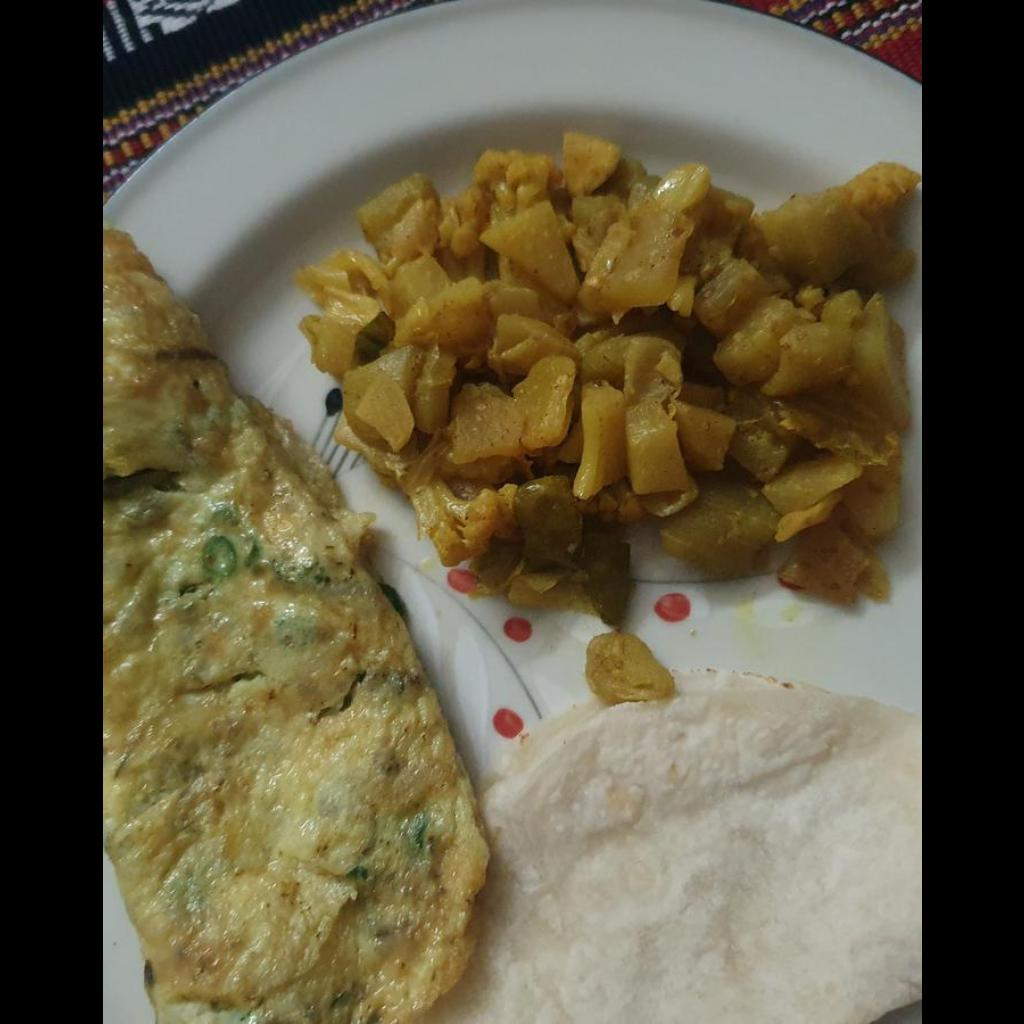egg-poached: (102, 222, 493, 1018)
ruti: (437, 673, 920, 1023)
vaji: (292, 130, 920, 698)
